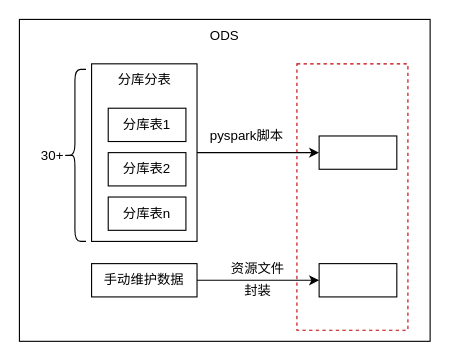
Image size: 450x361. Some labels were removed from this diagram. The centre of each missing label's shape, as x and y in pixels:
多表合并: point 357,152
数据落表: point 357,280
